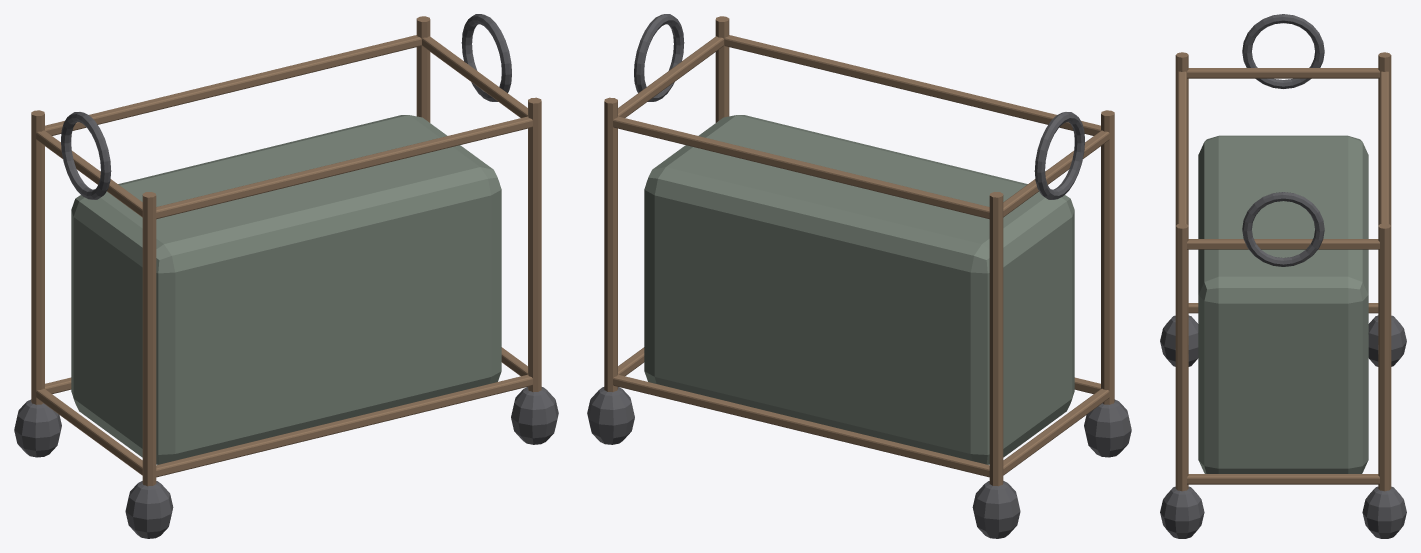
The picture shows the model from 3 angles, left to right: view 1: azimuth 30°, elevation 25°; view 2: azimuth 150°, elevation 25°; view 3: azimuth 270°, elevation 25°; orthographic projection. The views are drawn at different scales.
Visible parts, largest first — view 1: mailCart; view 2: mailCart; view 3: mailCart.
Boxes of the visible parts, left/top/right/bottom form: mailCart: left=14, top=14, right=558, bottom=538; mailCart: left=587, top=14, right=1131, bottom=538; mailCart: left=1160, top=14, right=1406, bottom=538.
Size of the model in its own units: 1.1 by 0.952 by 0.61.
